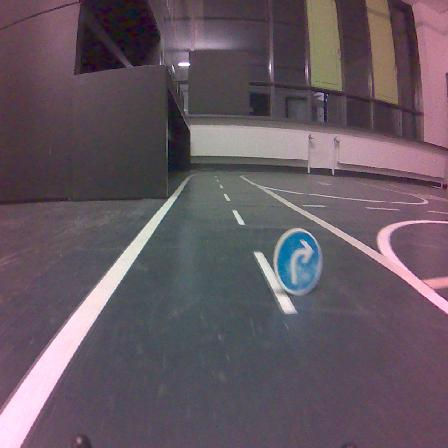RIGHT_TURN: (274, 229, 322, 295)
